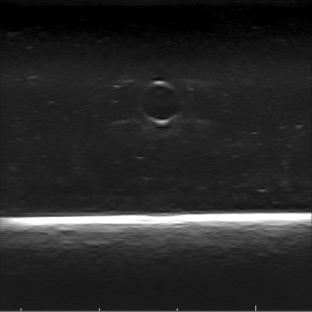vessel: (137, 80, 182, 126)
